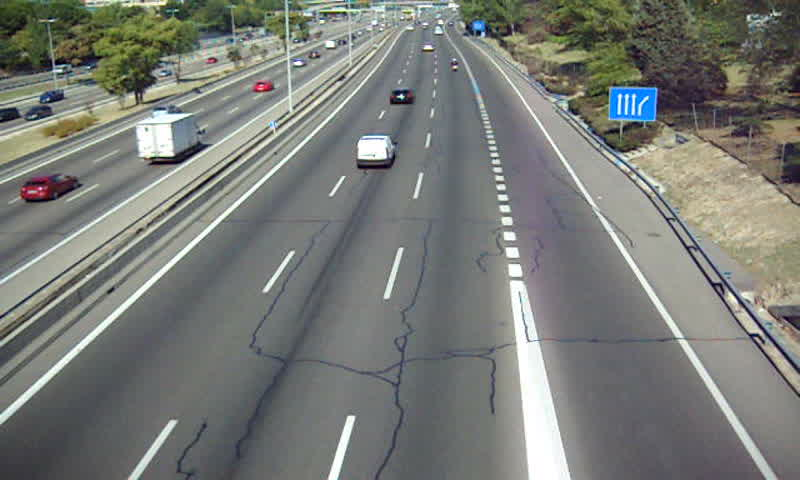car: (388, 89, 414, 106)
motorcycle: (450, 58, 460, 73)
van: (357, 135, 397, 166)
